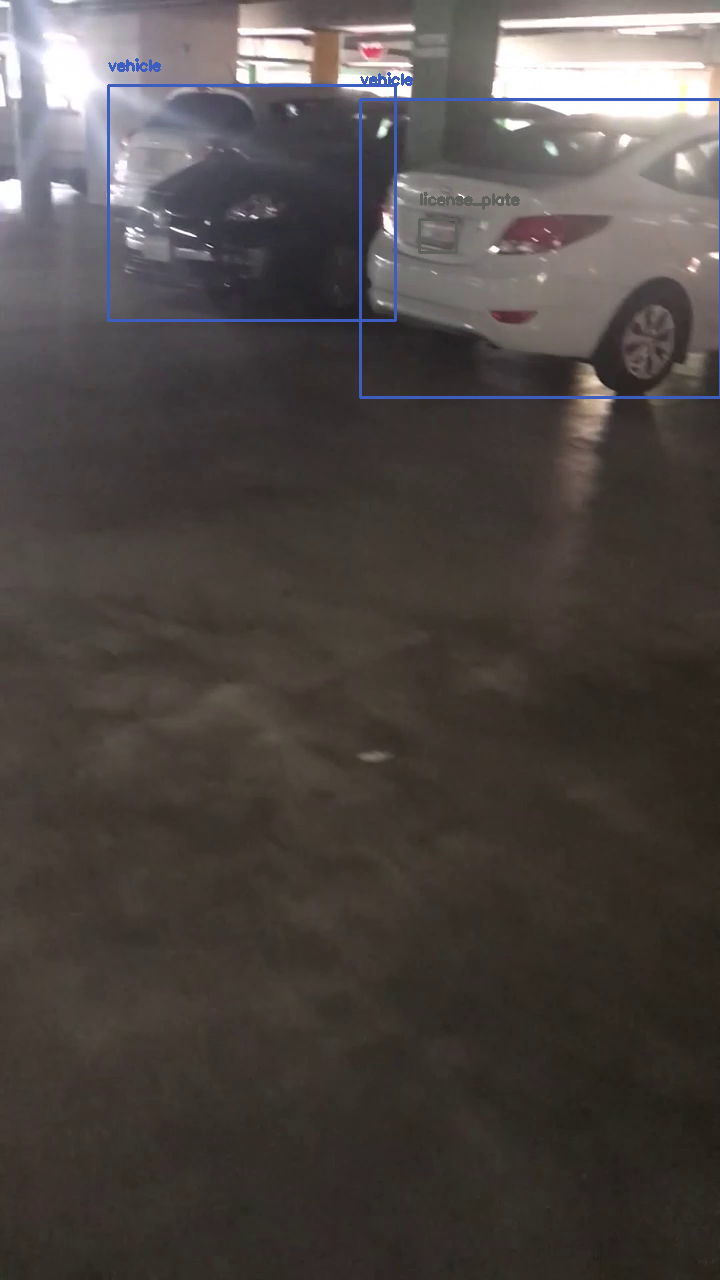license_plate: (419, 219, 456, 252)
vehicle: (360, 99, 720, 397), (108, 85, 395, 320)
